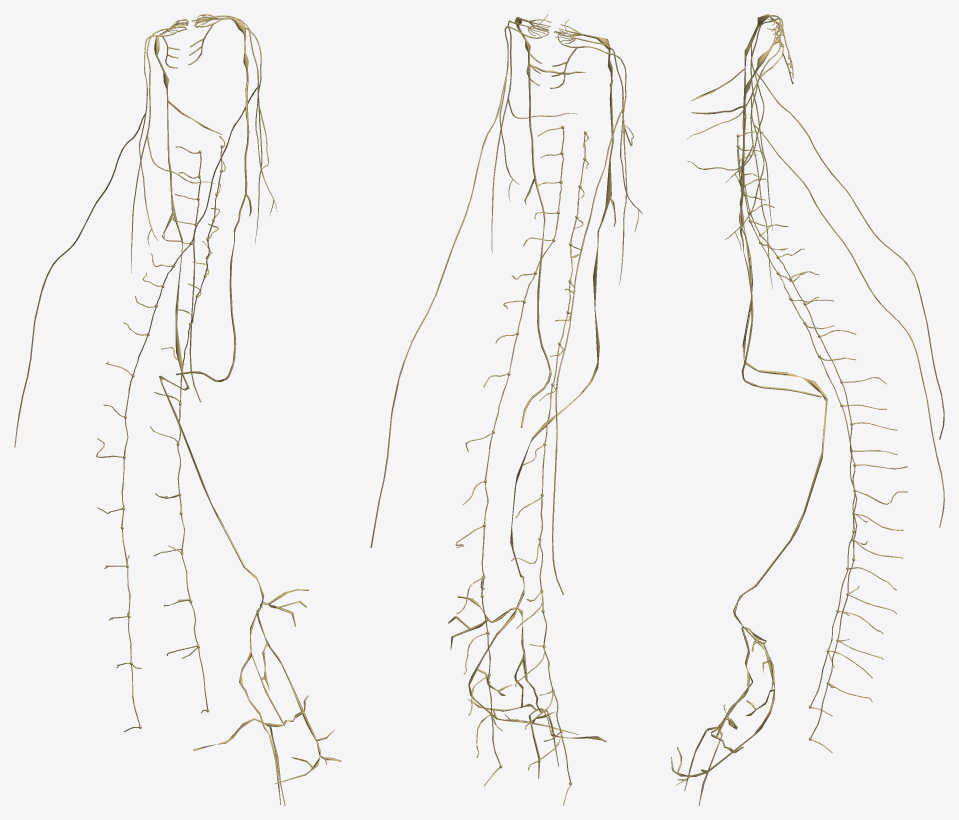
File: nervous-neck-mobile.glb
3 views of the same model, side by side, from view 1: azimuth 30°, elevation 25°; view 2: azimuth 150°, elevation 25°; view 3: azimuth 270°, elevation 25° (orthographic). The views are drawn at different scales.
Parts seen in each view (by area): view 1: za.vagus-nerve-x-r, za.vagus-nerve-x-l, za.accessory-nerve-xi-r, za.accessory-nerve-xi-l, za.sympathetic-trunk-r, za.sympathetic-trunk-l, za.sympathetic-nerves-r, za.glossopharyngeal-nerve-ix-r, za.sympathetic-nerves-l, za.glossopharyngeal-nerve-ix-l; view 2: za.vagus-nerve-x-r, za.accessory-nerve-xi-r, za.accessory-nerve-xi-l, za.vagus-nerve-x-l, za.sympathetic-trunk-l, za.sympathetic-trunk-r, za.sympathetic-nerves-l, za.sympathetic-nerves-r, za.glossopharyngeal-nerve-ix-l, za.glossopharyngeal-nerve-ix-r; view 3: za.vagus-nerve-x-r, za.vagus-nerve-x-l, za.accessory-nerve-xi-l, za.accessory-nerve-xi-r, za.sympathetic-trunk-l, za.sympathetic-nerves-l, za.sympathetic-nerves-r, za.sympathetic-trunk-r, za.glossopharyngeal-nerve-ix-l, za.glossopharyngeal-nerve-ix-r.
Boxes of the visible parts, x1,y1,x2,y2 form: za.vagus-nerve-x-r: (154,19,341,805); za.vagus-nerve-x-l: (176,14,251,381); za.accessory-nerve-xi-r: (14,28,186,447); za.accessory-nerve-xi-l: (188,17,277,402); za.sympathetic-trunk-r: (121,146,201,732); za.sympathetic-trunk-l: (177,136,225,713); za.sympathetic-nerves-r: (96,172,197,668); za.glossopharyngeal-nerve-ix-r: (131,19,214,272); za.sympathetic-nerves-l: (150,161,225,658); za.glossopharyngeal-nerve-ix-l: (192,15,268,242); za.vagus-nerve-x-r: (448,24,616,778); za.accessory-nerve-xi-r: (550,35,642,594); za.accessory-nerve-xi-l: (370,26,549,547); za.vagus-nerve-x-l: (514,16,585,427); za.sympathetic-trunk-l: (481,127,564,786); za.sympathetic-trunk-r: (539,133,588,805); za.sympathetic-nerves-l: (455,153,560,757); za.sympathetic-nerves-r: (511,159,588,770); za.glossopharyngeal-nerve-ix-l: (491,14,577,253); za.glossopharyngeal-nerve-ix-r: (554,19,633,284); za.vagus-nerve-x-r: (671,14,827,805); za.vagus-nerve-x-l: (691,29,821,397); za.accessory-nerve-xi-l: (725,38,944,527); za.accessory-nerve-xi-r: (725,18,944,439); za.sympathetic-trunk-l: (737,147,857,752); za.sympathetic-nerves-l: (739,171,907,702); za.sympathetic-nerves-r: (741,154,907,678); za.sympathetic-trunk-r: (737,131,857,716); za.glossopharyngeal-nerve-ix-l: (687,28,783,288); za.glossopharyngeal-nerve-ix-r: (687,15,783,229).
Size of the model in its own units: 0.1291 by 0.4724 by 0.1549.
